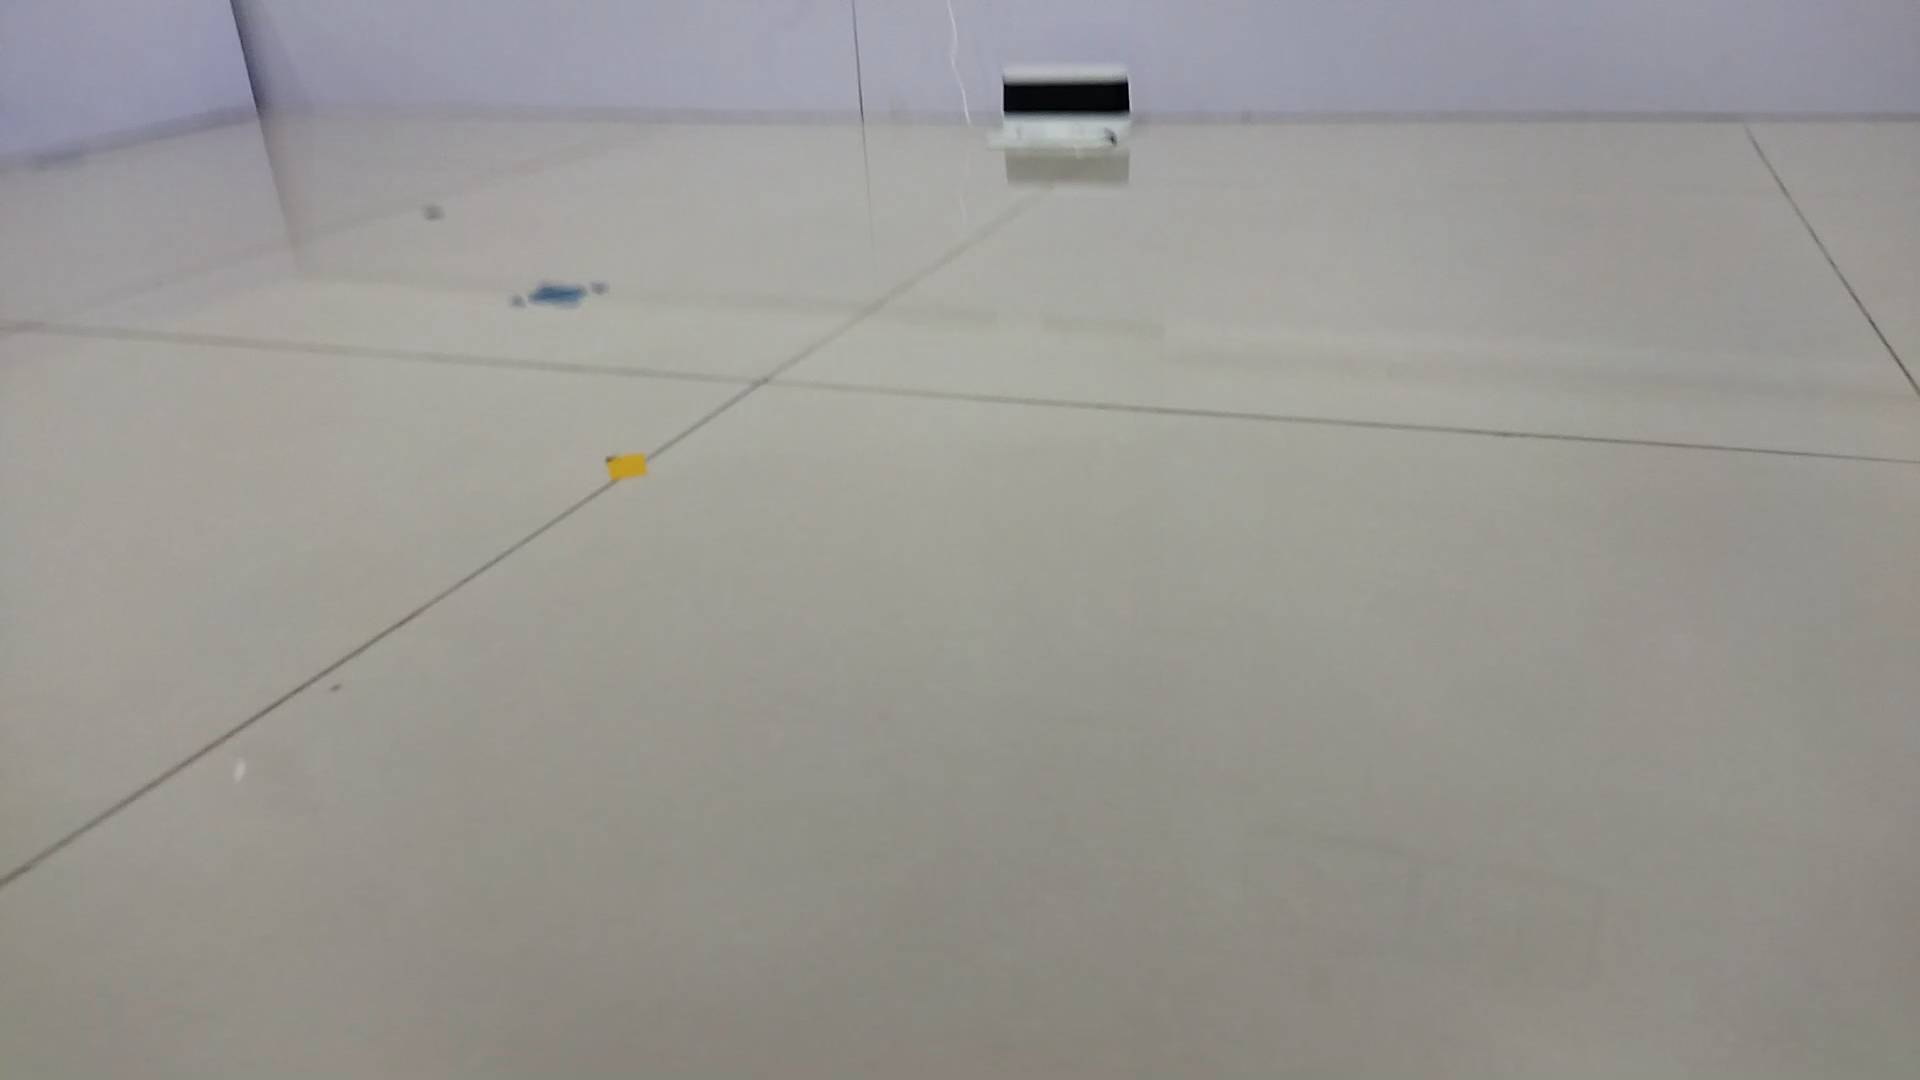recharge seat: (984, 61, 1137, 156)
